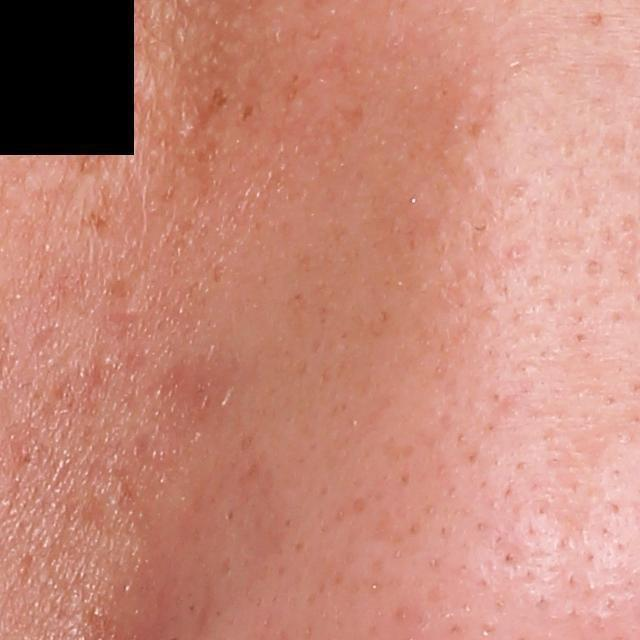melasma: (77, 206, 119, 236), (586, 7, 607, 33), (237, 100, 259, 124), (207, 85, 227, 109)
